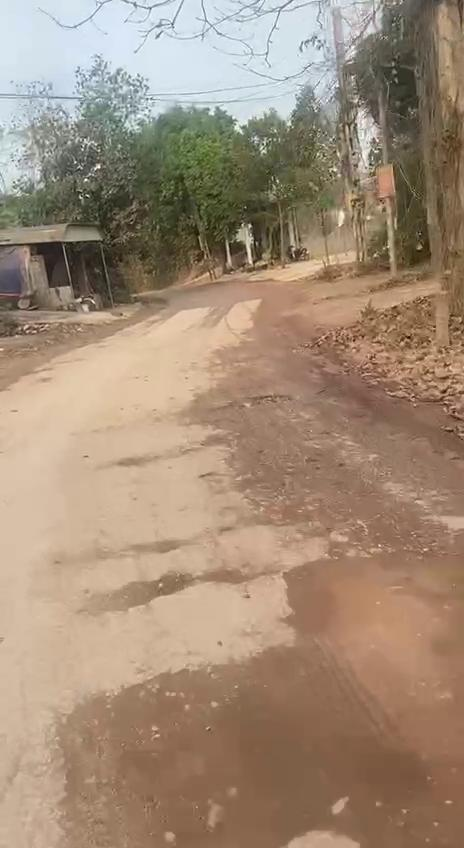pothole: (54, 530, 464, 848)
